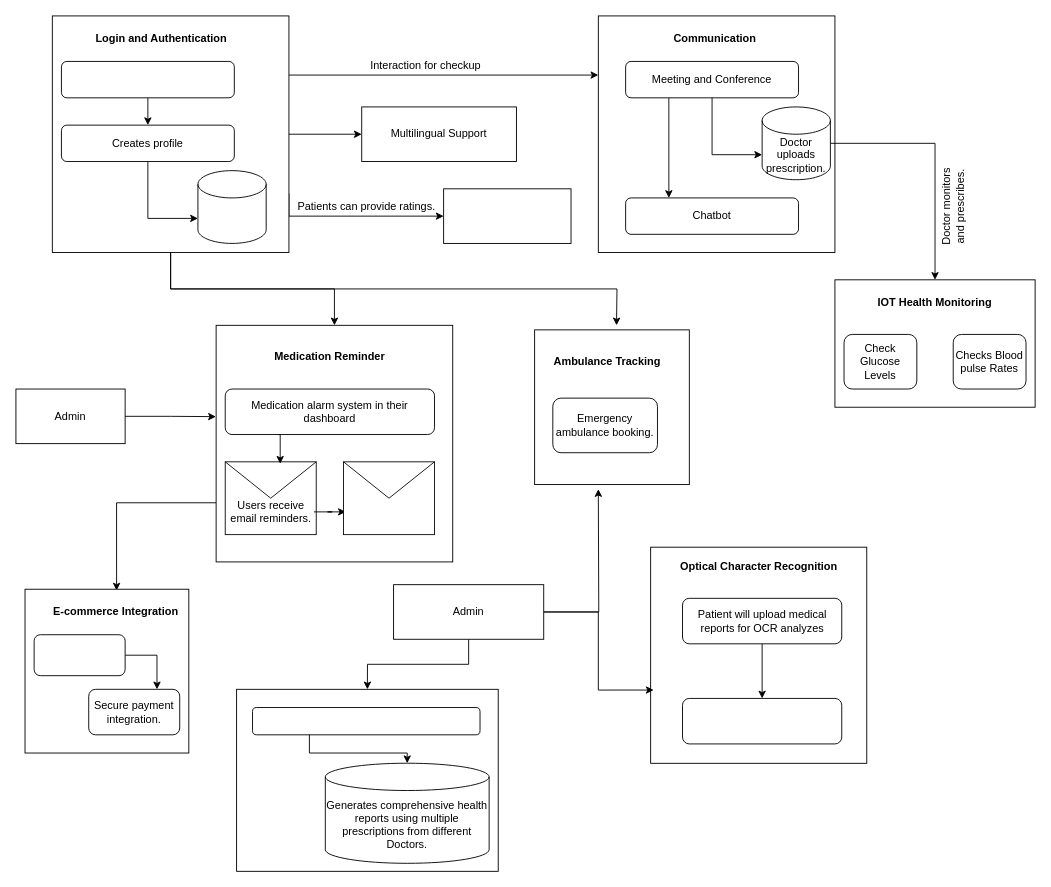
Image size: 1051x887. Some labels were removed from this diagram. Each missing label, with the centre of its shape:
"Catalog all the documents" goes at pixel 231 206.
"Chatbot will provide related prescription and health care" goes at pixel 762 721.
"Doctor rating system." goes at pixel 507 215.
"Documentation Generation" goes at pixel 366 721.
"Medicine purchase feature." goes at pixel 79 655.
"Patient/Doctor signup" goes at pixel 147 79.
"Reminder sharing feature." goes at pixel 389 498.
